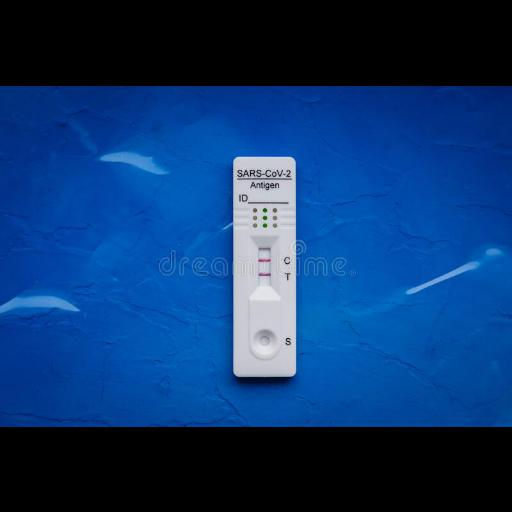Pos: (230, 154, 296, 376)
